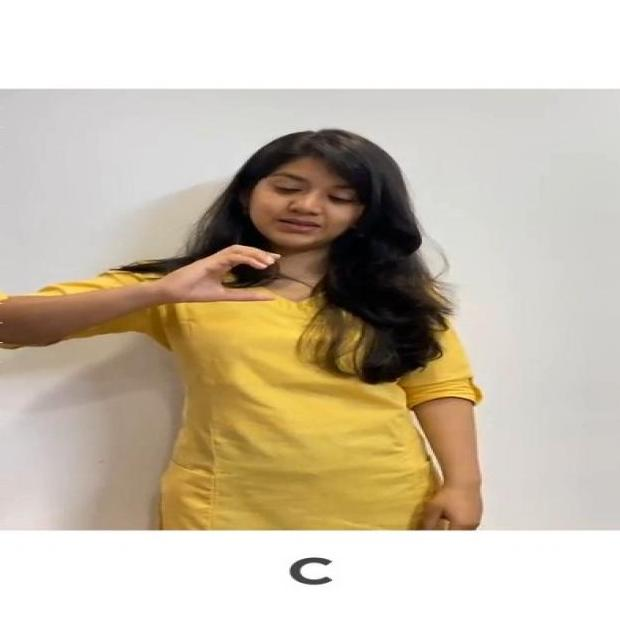B: (151, 240, 292, 317)
